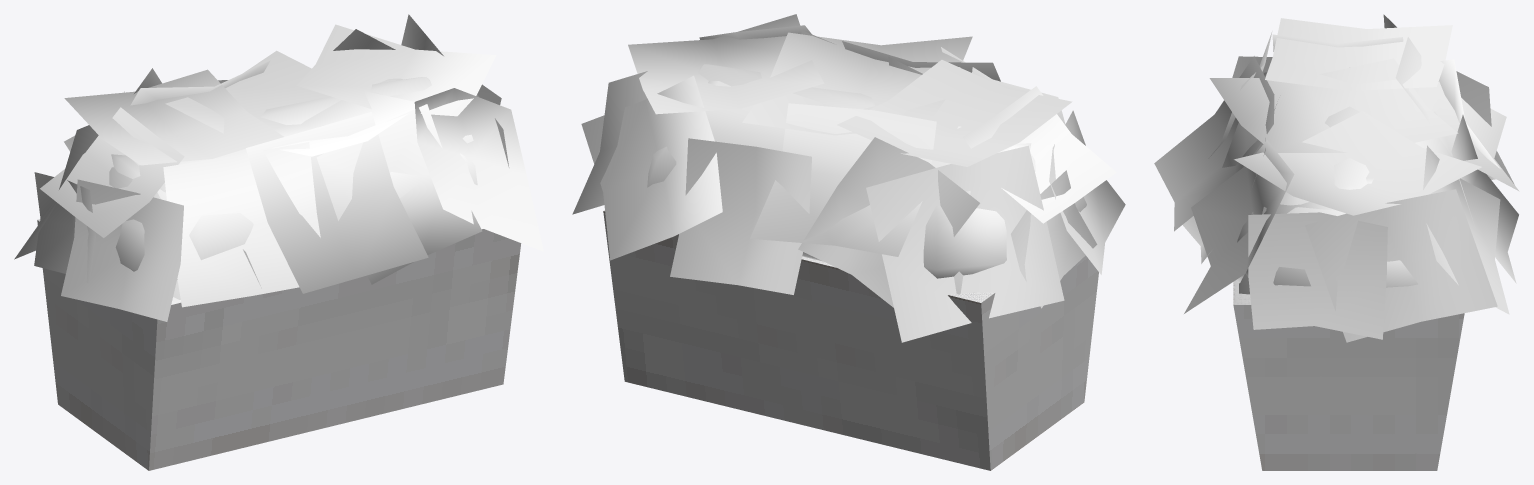
File: plants_un_hedge01_pot.gltf
3 renders of one model, left to right at view 1: azimuth 30°, elevation 25°; view 2: azimuth 150°, elevation 25°; view 3: azimuth 270°, elevation 25°, orthographic. The views are drawn at different scales.
Parts seen in each view (by area): view 1: um_plants_un_hedge01_pot_model_lod0Shape:plants_un_hedge01_p (×3), um_plants_un_hedge01_pot_model_lod2Shape:plants_un_hedge01_p (×2); view 2: um_plants_un_hedge01_pot_model_lod0Shape:plants_un_hedge01_p (×3), um_plants_un_hedge01_pot_model_lod2Shape:plants_un_hedge01_p; view 3: um_plants_un_hedge01_pot_model_lod0Shape:plants_un_hedge01_p (×3), um_plants_un_hedge01_pot_model_lod2Shape:plants_un_hedge01_p (×2).
Part boxes in pixels (left/top/right/bottom): um_plants_un_hedge01_pot_model_lod0Shape:plants_un_hedge01_p (×3): left=14, top=14, right=543, bottom=321; um_plants_un_hedge01_pot_model_lod2Shape:plants_un_hedge01_p (×2): left=37, top=134, right=521, bottom=470; um_plants_un_hedge01_pot_model_lod0Shape:plants_un_hedge01_p (×3): left=572, top=14, right=1125, bottom=342; um_plants_un_hedge01_pot_model_lod2Shape:plants_un_hedge01_p: left=603, top=211, right=1098, bottom=470; um_plants_un_hedge01_pot_model_lod0Shape:plants_un_hedge01_p (×3): left=1154, top=14, right=1519, bottom=342; um_plants_un_hedge01_pot_model_lod2Shape:plants_un_hedge01_p (×2): left=1233, top=72, right=1464, bottom=470.
Bounding box in the file's own units: 1.07 × 0.7019 × 0.7764.
4 materials, 1 textured.
